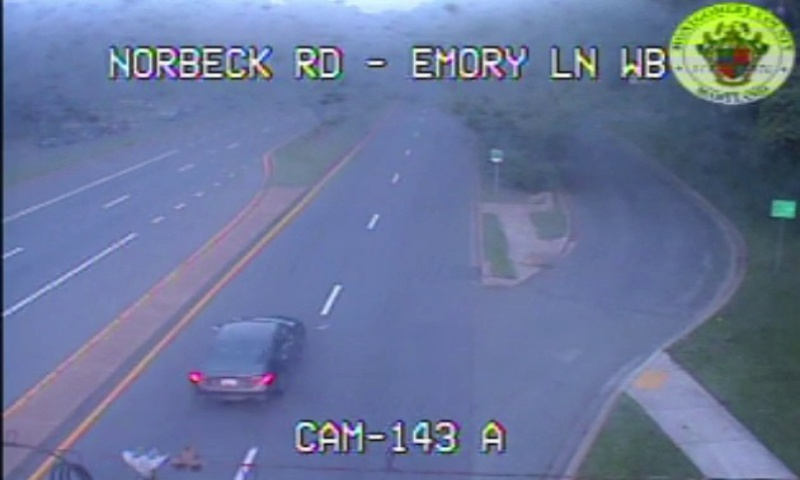car: (189, 318, 297, 399)
